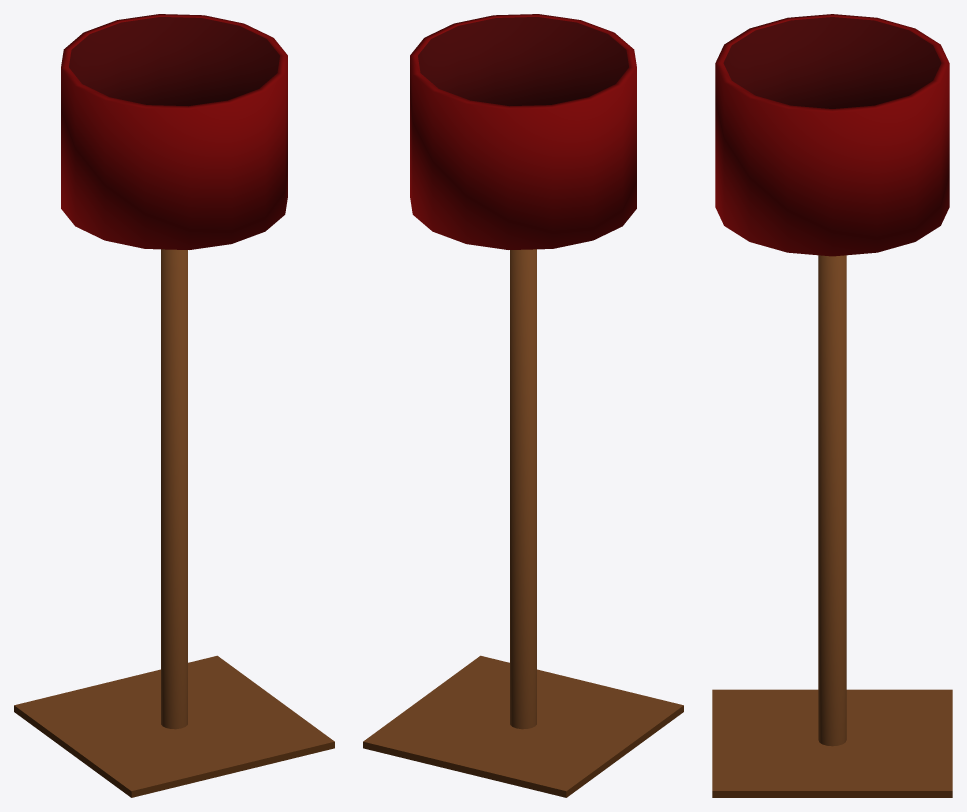
Rendered from Lamp2.fbx.
The picture shows the model from 3 angles, left to right: view 1: azimuth 30°, elevation 25°; view 2: azimuth 150°, elevation 25°; view 3: azimuth 270°, elevation 25°; orthographic projection. The views are drawn at different scales.
Visible parts, largest first — view 1: Prop_HomeLamp_01; view 2: Prop_HomeLamp_01; view 3: Prop_HomeLamp_01.
Part boxes in pixels (x1,y1,x2,y2): Prop_HomeLamp_01: (14,14,334,797); Prop_HomeLamp_01: (363,14,683,797); Prop_HomeLamp_01: (712,14,952,797).
Size of the model in its own units: 50.94 by 160 by 50.94.
Materials: 1 (1 with a texture image).
